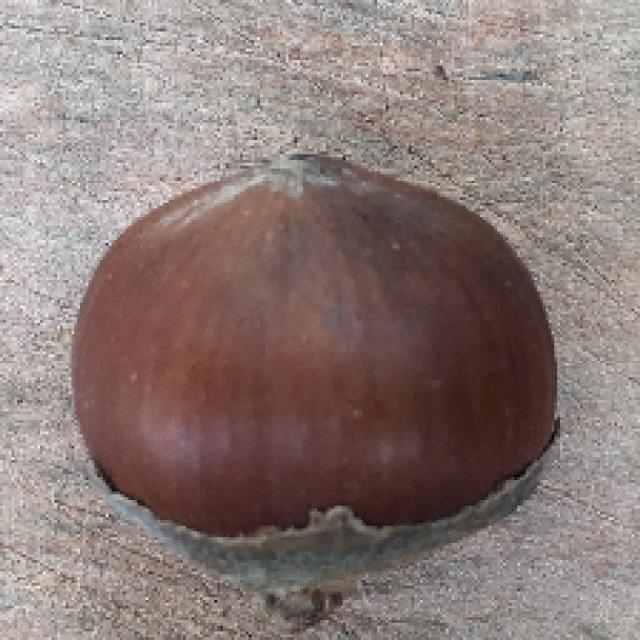DamagedHazelnut: (70, 152, 561, 586)
